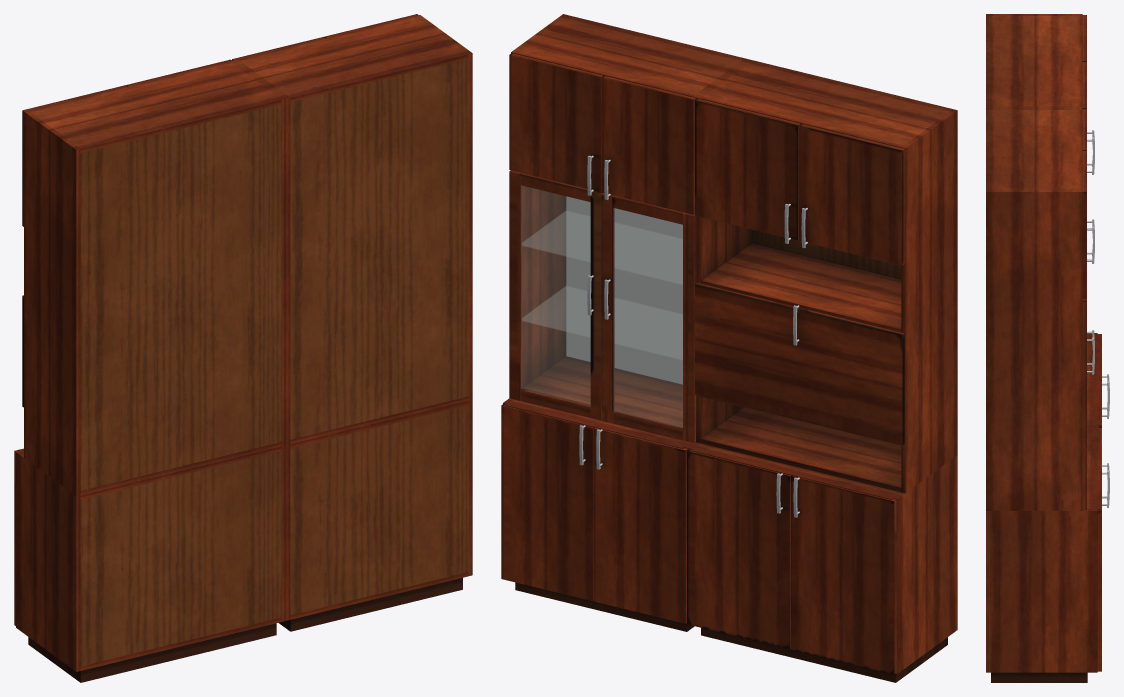
File: stenka_glass_web.glb
The picture shows the model from 3 angles, left to right: view 1: azimuth 30°, elevation 25°; view 2: azimuth 150°, elevation 25°; view 3: azimuth 270°, elevation 25°; orthographic projection. The views are drawn at different scales.
Visible parts, largest first — view 1: StenkaGlass_Body; view 2: StenkaGlass_Body, Flap_2U1_Mesh, Door_2L0_R_Mesh, Door_2L0_L_Mesh, Door_1L0_R_Mesh, Door_1L0_L_Mesh, Mirror_1U0, Glass_Door_1U0_R, Glass_Door_1U0_L, Door_2U3_R_Mesh, Door_2U3_L_Mesh, Door_1U1_R_Mesh (+5 smaller); view 3: StenkaGlass_Body, Door_1U0_L_Mesh, Door_1L0_L_Mesh, Door_1U1_L_Mesh, Door_2U3_L_Mesh, Door_2U3_R_Mesh.
Boxes of the visible parts, left/top/right/bottom form: StenkaGlass_Body: left=16, top=15, right=472, bottom=682; StenkaGlass_Body: left=503, top=14, right=957, bottom=682; Flap_2U1_Mesh: left=695, top=283, right=904, bottom=445; Door_2L0_R_Mesh: left=791, top=476, right=896, bottom=674; Door_2L0_L_Mesh: left=687, top=449, right=790, bottom=649; Door_1L0_R_Mesh: left=593, top=427, right=687, bottom=623; Door_1L0_L_Mesh: left=501, top=404, right=593, bottom=601; Mirror_1U0: left=566, top=196, right=682, bottom=384; Glass_Door_1U0_R: left=613, top=208, right=682, bottom=427; Glass_Door_1U0_L: left=521, top=185, right=590, bottom=405; Door_2U3_R_Mesh: left=799, top=124, right=904, bottom=265; Door_2U3_L_Mesh: left=695, top=98, right=800, bottom=240; Door_1U1_R_Mesh: left=601, top=75, right=695, bottom=214; StenkaGlass_Body: left=986, top=14, right=1100, bottom=682; Door_1U0_L_Mesh: left=1082, top=299, right=1086, bottom=509; Door_1L0_L_Mesh: left=1097, top=470, right=1101, bottom=671; Door_1U1_L_Mesh: left=1082, top=151, right=1086, bottom=298; Door_2U3_L_Mesh: left=1082, top=62, right=1086, bottom=109; Door_2U3_R_Mesh: left=1082, top=15, right=1086, bottom=61.
Size of the model in its own units: 1.7 by 2.2 by 0.4999.
4 materials, 2 textured.
